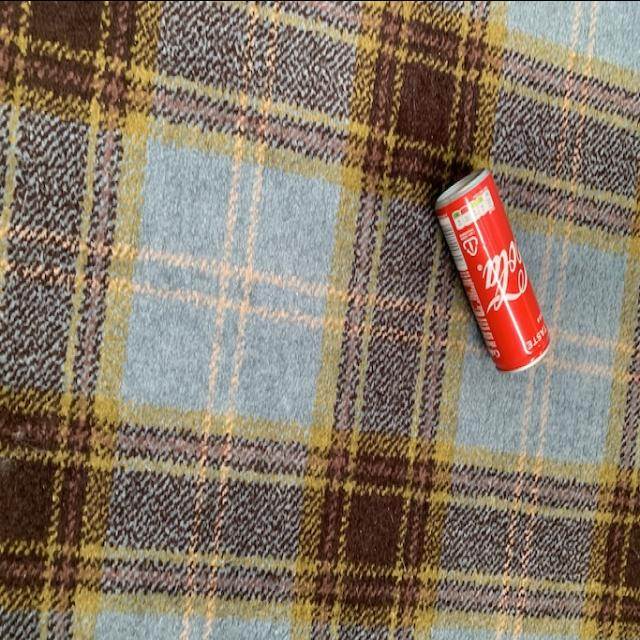litter: (431, 158, 559, 398)
